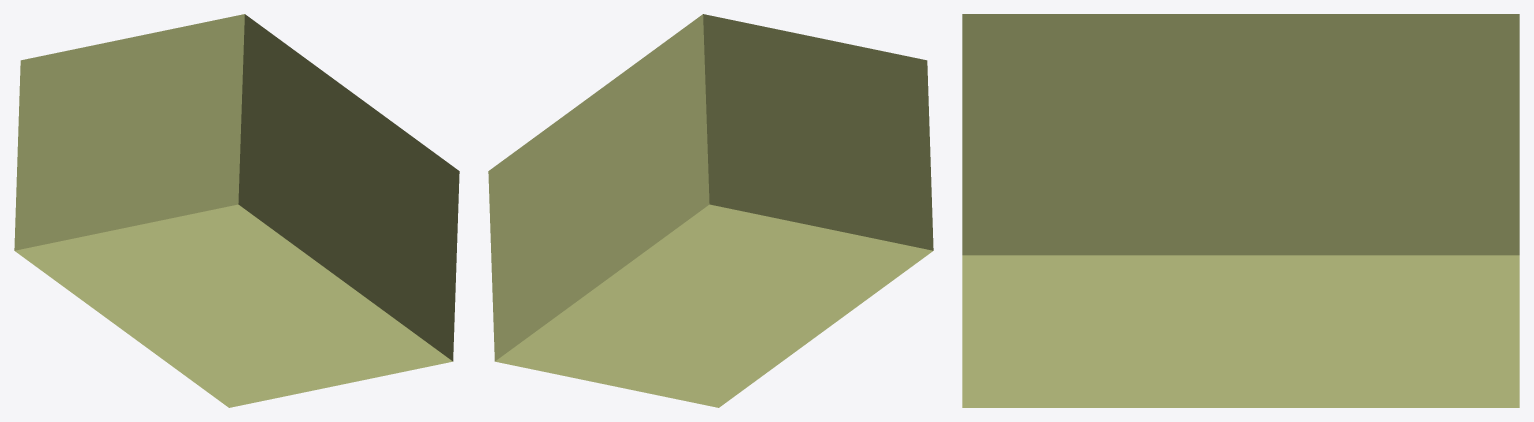
3 renders of one model, left to right at view 1: azimuth 30°, elevation 25°; view 2: azimuth 150°, elevation 25°; view 3: azimuth 270°, elevation 25°, orthographic. The views are drawn at different scales.
Parts seen in each view (by area): view 1: 0_1_3_2_1_2_1_2_1_0_2; view 2: 0_1_3_2_1_2_1_2_1_0_2; view 3: 0_1_3_2_1_2_1_2_1_0_2.
Boxes of the visible parts, <box> form: 0_1_3_2_1_2_1_2_1_0_2: <box>14,14,459,407</box>; 0_1_3_2_1_2_1_2_1_0_2: <box>488,14,933,407</box>; 0_1_3_2_1_2_1_2_1_0_2: <box>962,14,1519,407</box>.
Size of the model in its own units: 3.72 by 3.04 by 6.
